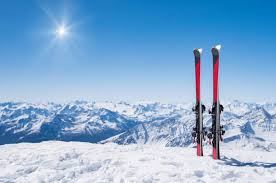skis: (192, 46, 221, 161)
